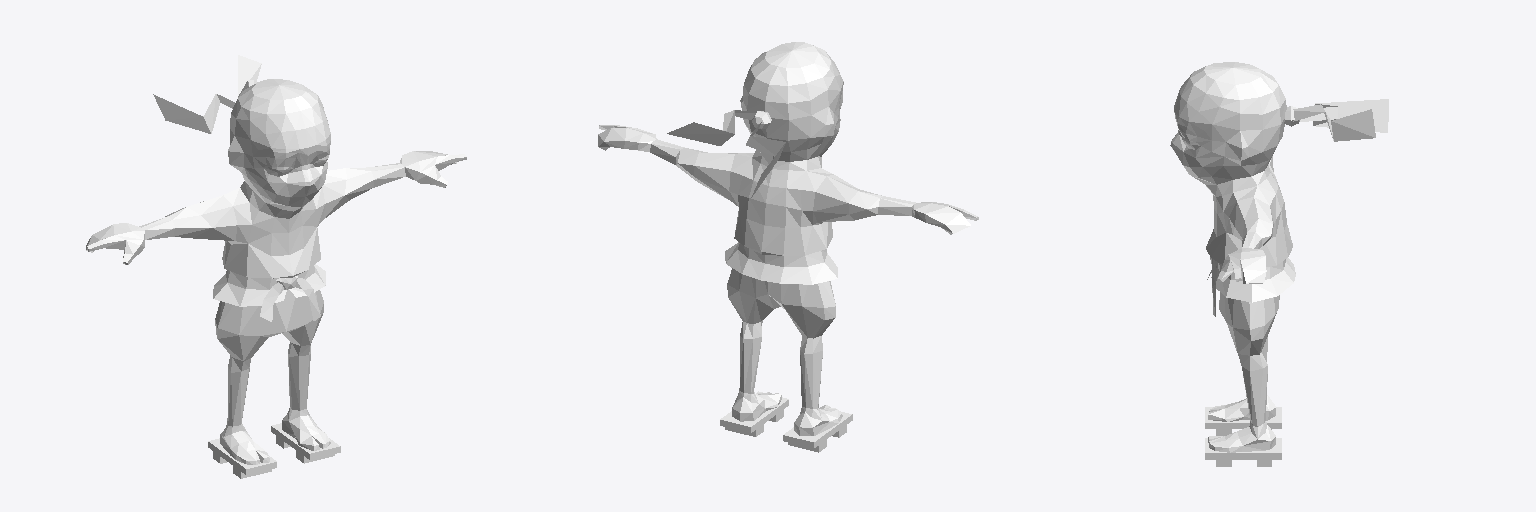
The model's file is Ninja.obj.
3 views of the same model, side by side, from view 1: azimuth 30°, elevation 25°; view 2: azimuth 150°, elevation 25°; view 3: azimuth 270°, elevation 25° (orthographic).
Parts seen in each view (by area): view 1: ninja; view 2: ninja; view 3: ninja.
Part boxes in pixels (x1,y1,x2,y2): ninja: (86,55,466,478); ninja: (598,42,978,452); ninja: (1170,62,1388,466).
Bounding box in the file's own units: 10.07 × 9.57 × 5.05.